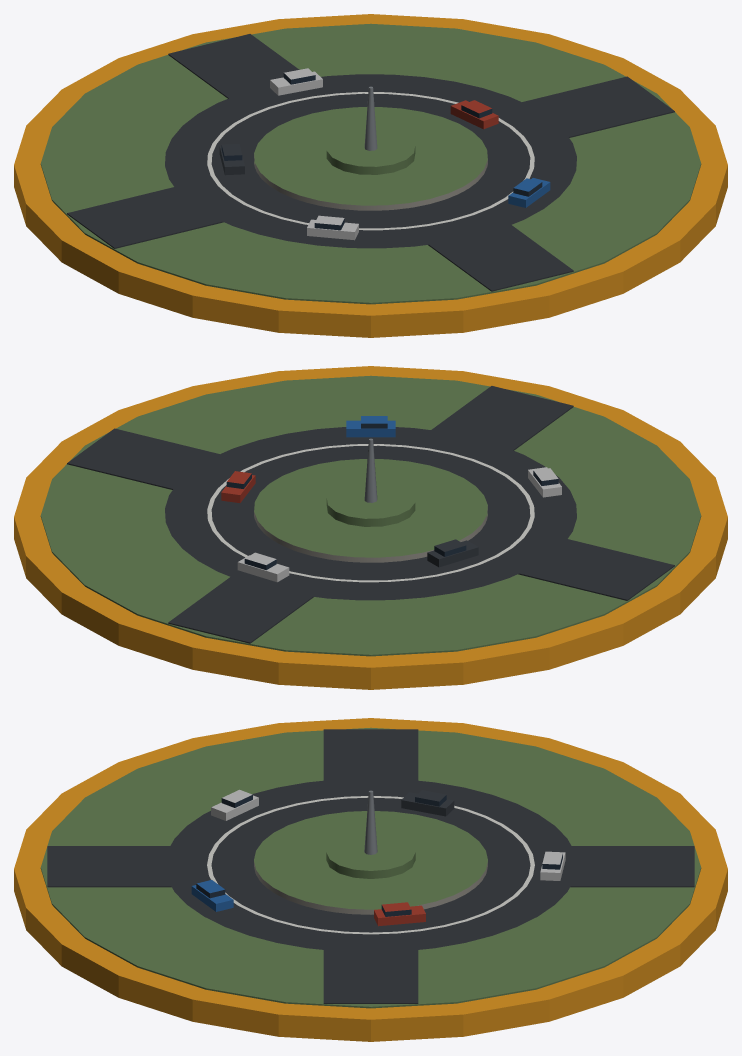
File: roundabout_amber.glb
3 views of the same model, one above another, from view 1: azimuth 30°, elevation 25°; view 2: azimuth 150°, elevation 25°; view 3: azimuth 270°, elevation 25° (orthographic).
Visible parts, largest first — view 1: roundabout_amber; view 2: roundabout_amber; view 3: roundabout_amber.
Boxes of the visible parts, x1,y1,x2,y2 form: roundabout_amber: (14,14,727,337); roundabout_amber: (14,366,727,689); roundabout_amber: (14,718,727,1041).
Size of the model in its own units: 64 by 9.85 by 64.
